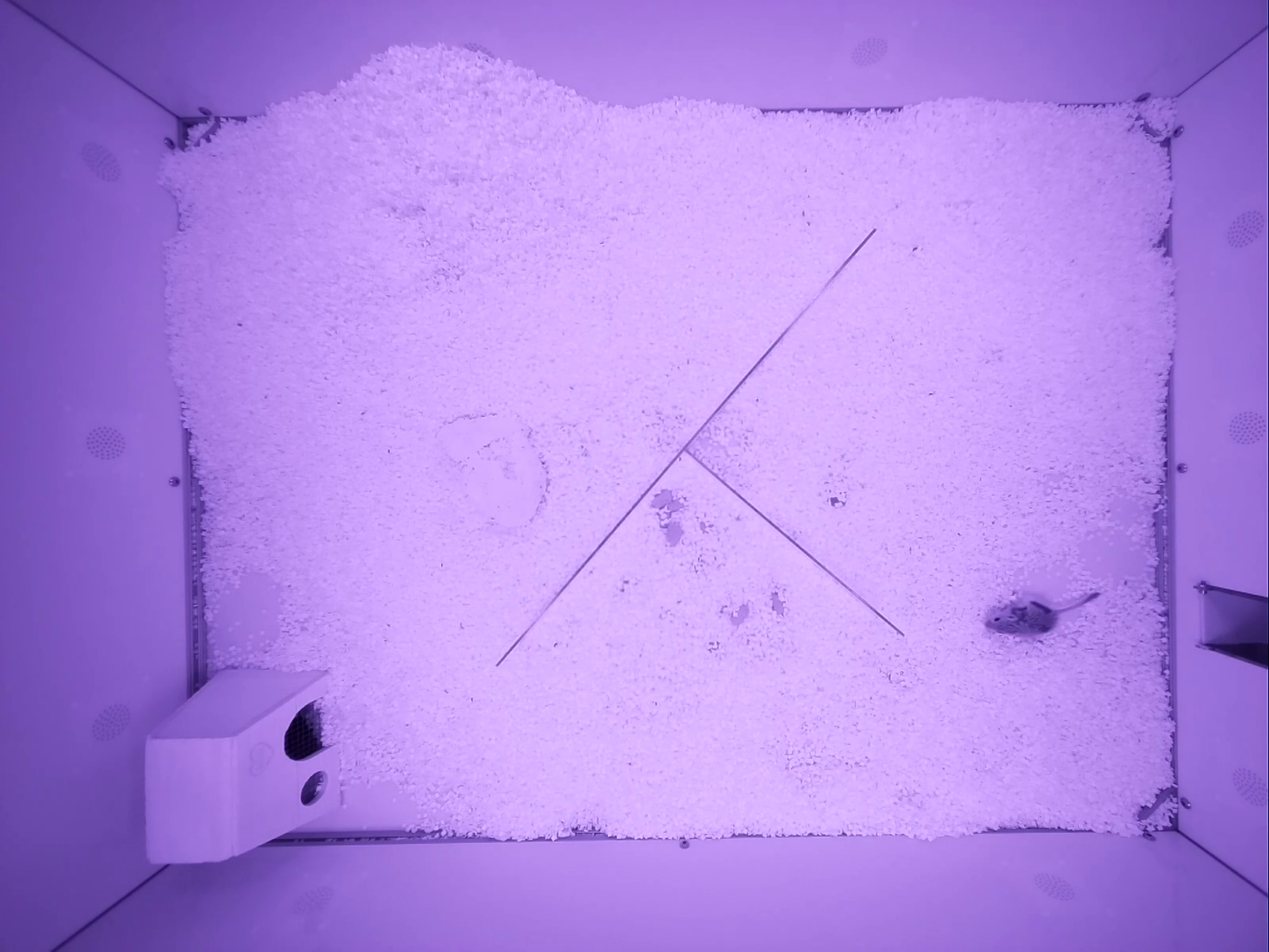adult_back: (986, 592, 1098, 633)
